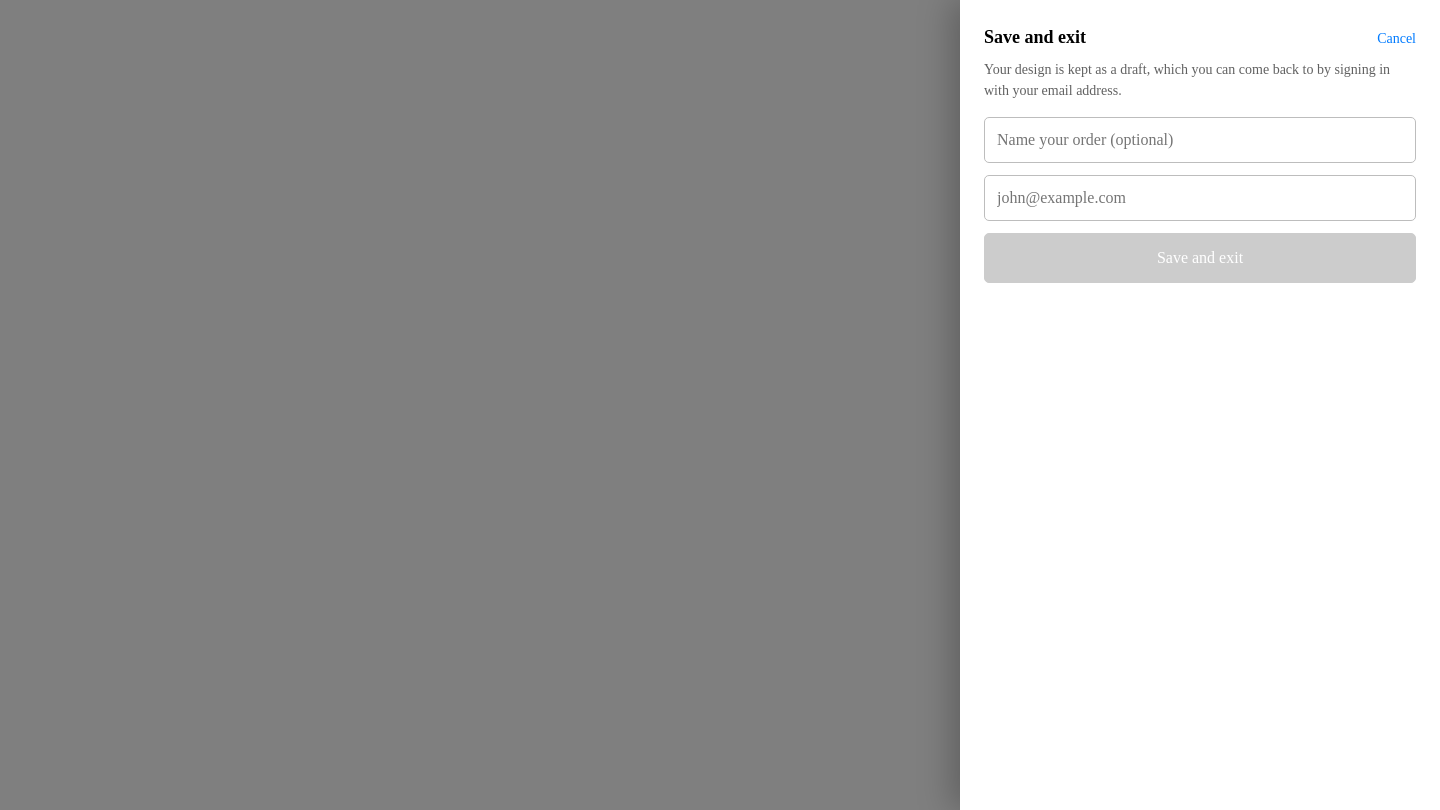
Test: SaveAndExitDialog › for a guest › asks for an email address, and can't save without a valid one
Expected: the button "Save and exit" is disabled, [984,233,1416,283]
Type "not an email" into the field named "email address".
click(1200, 198); type("not an email")  # box [984,175,1416,221]
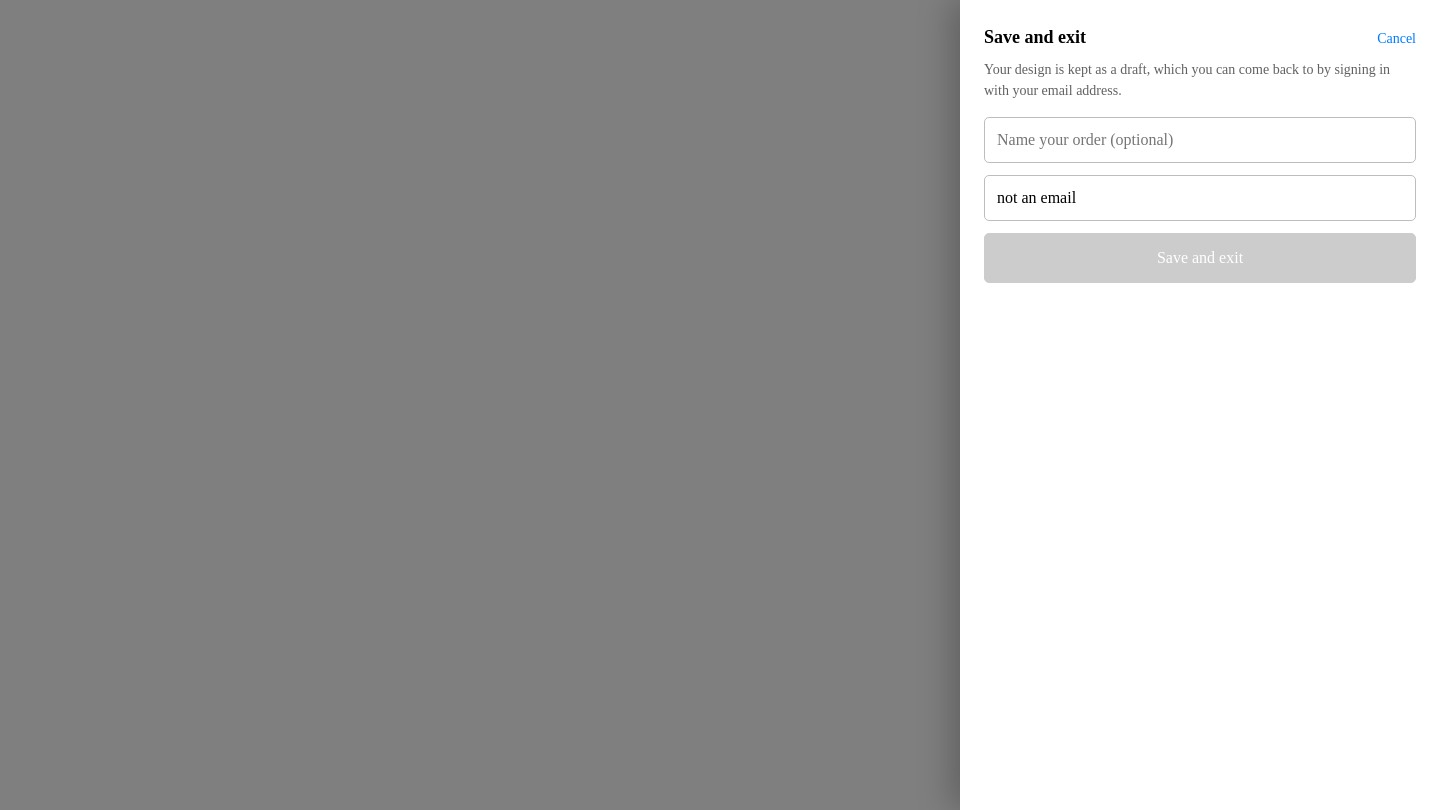
Expected: the button "Save and exit" is disabled, [984,233,1416,283]
Replace the text in the field named "email address" with "jo@example.com" at (1200, 198), box [984,175,1416,221]
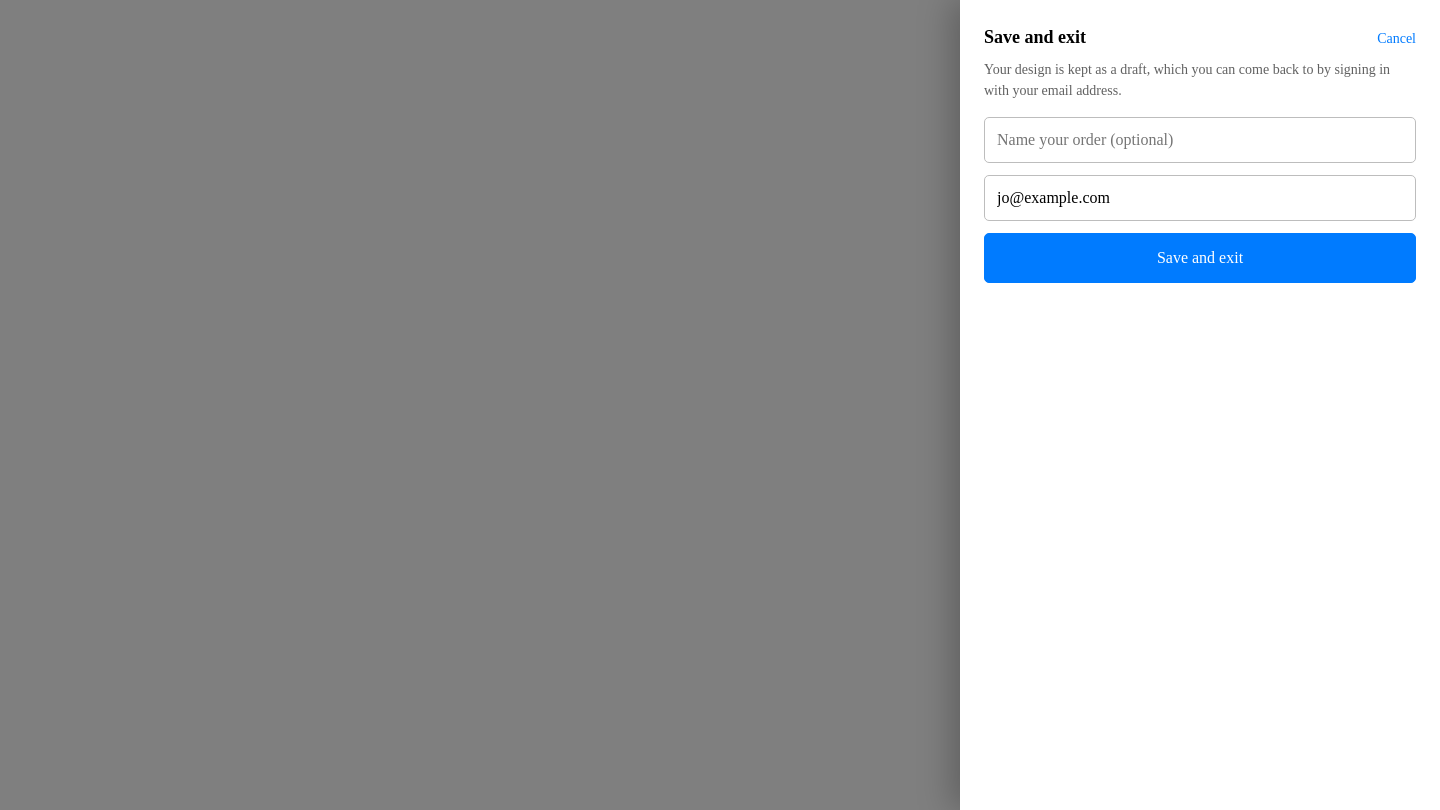
Expected: the button "Save and exit" is enabled, [984,233,1416,283]
